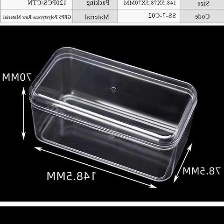plastic_box: (23, 40, 206, 184)
